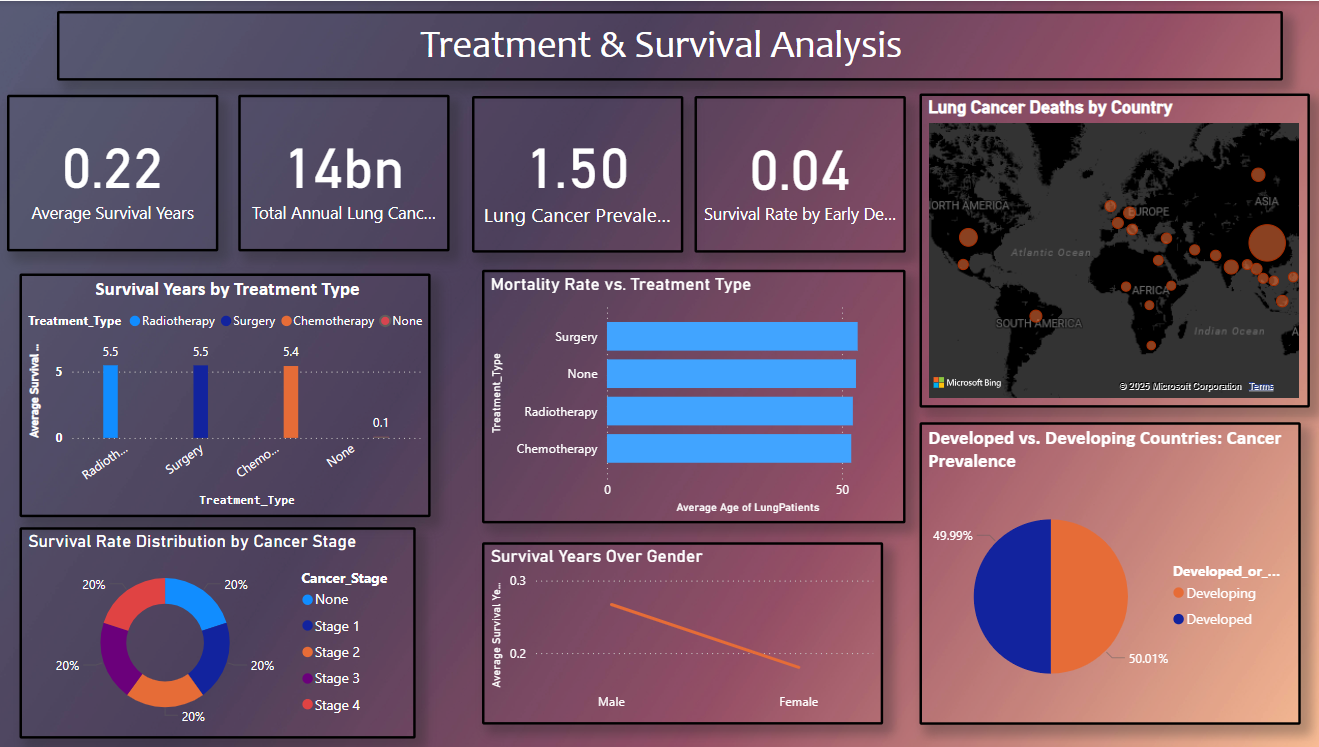

This screenshot's page, from the dashboard's own definition file:
{"tool":"powerbi","page":{"name":"Treatment & Survival Analysis  ","canvas":[1280,720],"ordinal":2},"visuals":[{"type":"textbox","box":[57.9,9.7,1183.5,67.6],"z":0},{"type":"card","fields":{"Values":["lung_cancer_Dataset.Average Survival Years"]},"box":[9.7,90.5,203.9,150.8],"z":1000},{"type":"card","fields":{"Values":["lung_cancer_Dataset.Survival Rate by Early Detection"]},"box":[673.2,91.7,203.9,150.8],"z":2000},{"type":"card","fields":{"Values":["lung_cancer_Dataset.Lung Cancer Prevalence Rate"]},"box":[458.4,91.7,203.9,150.8],"z":3000},{"type":"card","fields":{"Values":["lung_cancer_Dataset.Total Annual Lung Cancer Deaths"]},"box":[232.8,90.5,203.9,150.8],"z":4000},{"type":"clusteredColumnChart","title":"Survival Years by Treatment Type","fields":{"Category":["lung_cancer_Dataset.Treatment_Type"],"Y":["lung_cancer_Dataset.Average Survival Years"],"Series":["lung_cancer_Dataset.Treatment_Type"]},"box":[21.7,263,396.9,235.3],"z":5000},{"type":"map","title":"Lung Cancer Deaths by Country","fields":{"Category":["lung_cancer_Dataset.Country"],"Y":["lung_cancer_Dataset.Total Annual Lung Cancer Deaths"],"Size":["lung_cancer_Dataset.Total Annual Lung Cancer Deaths"]},"box":[890.4,89.3,376.4,302.8],"z":6000},{"type":"pieChart","title":"\t\t\tDeveloped vs. Developing Countries: Cancer Prevalence   ","fields":{"Category":["lung_cancer_Dataset.Developed_or_Developing"],"Y":["lung_cancer_Dataset.Cancer Prevalence by Development"]},"box":[890.4,406.6,368,292],"z":7000},{"type":"barChart","title":"Mortality Rate vs. Treatment Type","fields":{"Y":["lung_cancer_Dataset.Average Age of LungPatients"],"Category":["lung_cancer_Dataset.Treatment_Type"]},"box":[468.1,259.4,409,244.9],"z":8000},{"type":"donutChart","title":"Survival Rate Distribution by Cancer Stage","fields":{"Category":["lung_cancer_Dataset.Cancer_Stage"],"Y":["lung_cancer_Dataset.Survival Rate by Stage"]},"box":[21.7,507.9,382.4,203.9],"z":9000},{"type":"lineChart","title":"Survival Years Over Gender","fields":{"Y":["lung_cancer_Dataset.Average Survival Years"],"Category":["lung_cancer_Dataset.Gender"]},"box":[468.1,522.4,387.3,176.1],"z":10000}]}

Visuals, with their boxes in screenshot pixels (x1, y1, x2, y2), scaled from the page's 1280x720 canvas onto the 1319x747 screenshot:
textbox: rect(60, 10, 1279, 80)
card - lung_cancer_Dataset.Average Survival Years: rect(10, 94, 220, 250)
card - lung_cancer_Dataset.Survival Rate by Early Detection: rect(694, 95, 904, 252)
card - lung_cancer_Dataset.Lung Cancer Prevalence Rate: rect(472, 95, 682, 252)
card - lung_cancer_Dataset.Total Annual Lung Cancer Deaths: rect(240, 94, 450, 250)
"Survival Years by Treatment Type" clusteredColumnChart: rect(22, 273, 431, 517)
"Lung Cancer Deaths by Country" map: rect(918, 93, 1305, 407)
"			Developed vs. Developing Countries: Cancer Prevalence   " pieChart: rect(918, 422, 1297, 725)
"Mortality Rate vs. Treatment Type" barChart: rect(482, 269, 904, 523)
"Survival Rate Distribution by Cancer Stage" donutChart: rect(22, 527, 416, 738)
"Survival Years Over Gender" lineChart: rect(482, 542, 881, 725)
